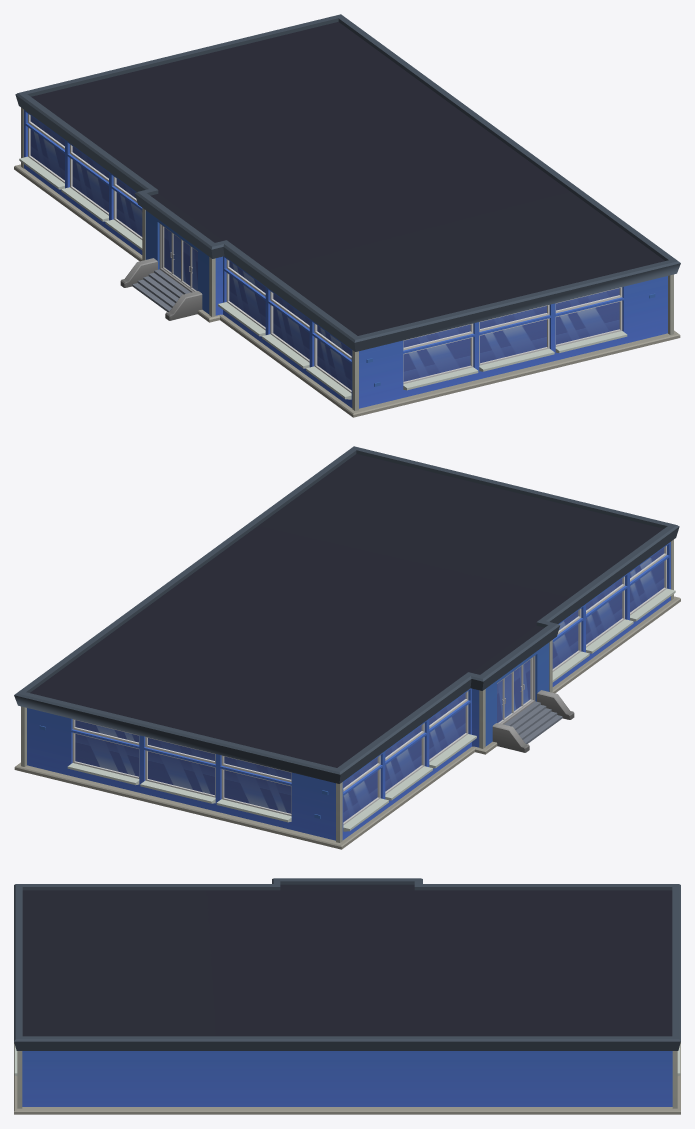
Rendered from Building_16_1_H.glb.
3 renders of one model, top to bottom at view 1: azimuth 30°, elevation 25°; view 2: azimuth 150°, elevation 25°; view 3: azimuth 270°, elevation 25°, orthographic.
Visible parts, largest first — view 1: Building_16_1_H; view 2: Building_16_1_H; view 3: Building_16_1_H.
Part boxes in pixels (x1,y1,x2,y2): Building_16_1_H: (14, 14, 680, 417); Building_16_1_H: (14, 446, 680, 849); Building_16_1_H: (14, 878, 680, 1114).
Size of the model in its own units: 18.88 by 3.75 by 30.26.
3 materials, 3 textured.
